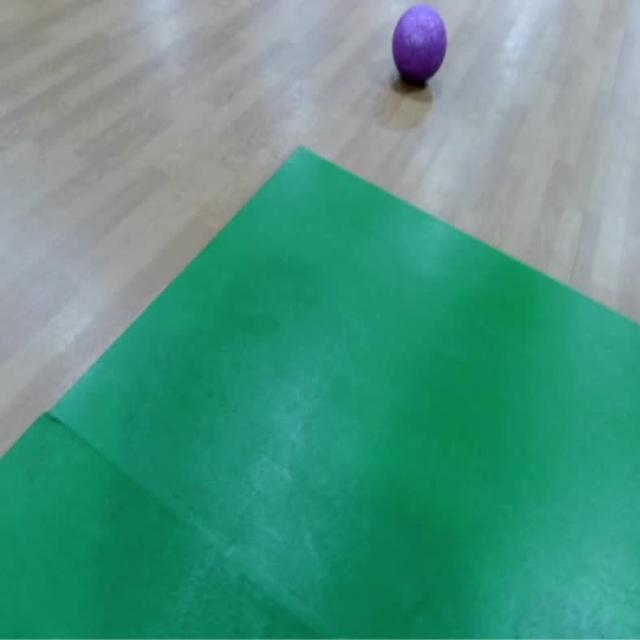purple_ball: (390, 6, 446, 85)
